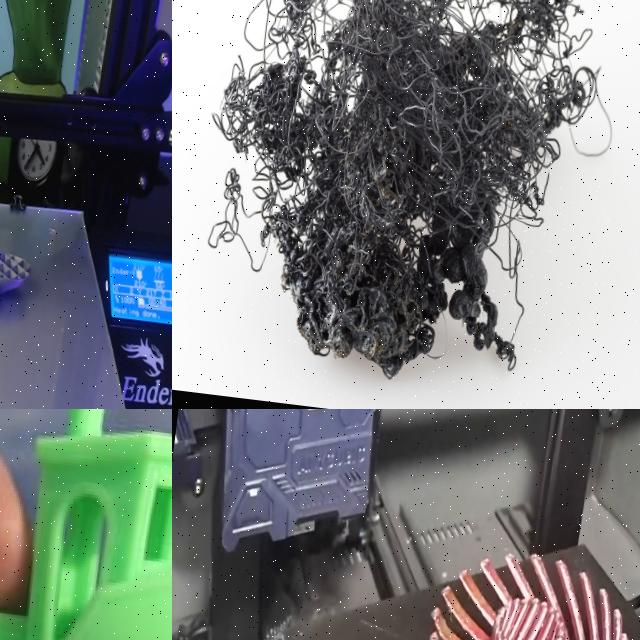spaghetti: (216, 0, 601, 379), (205, 170, 271, 277)
